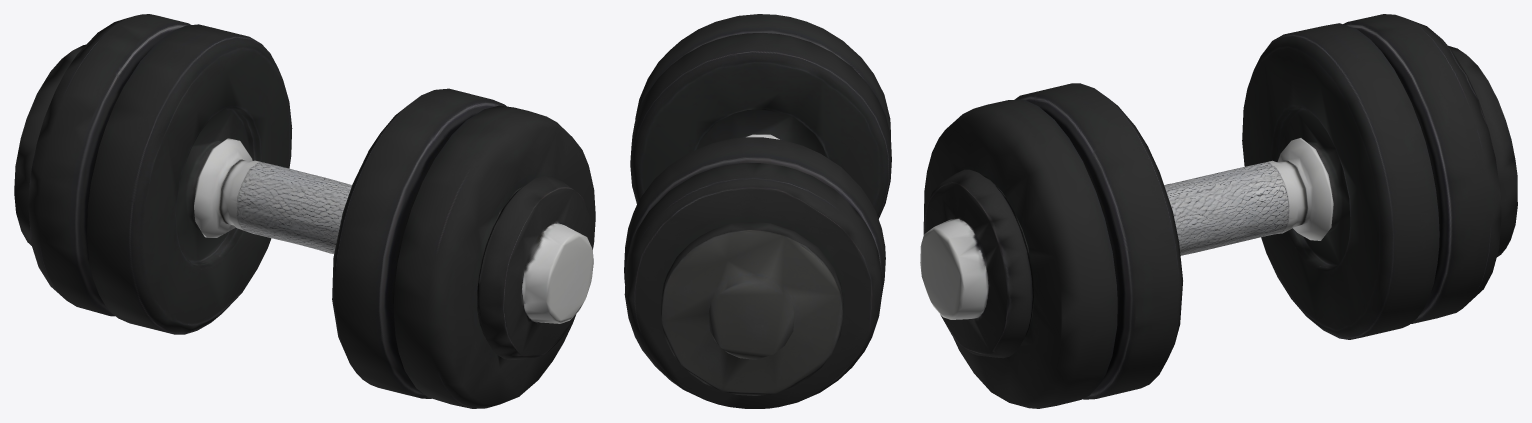
Rendered from dumbbell.glb.
The picture shows the model from 3 angles, left to right: view 1: azimuth 30°, elevation 25°; view 2: azimuth 150°, elevation 25°; view 3: azimuth 270°, elevation 25°; orthographic projection. The views are drawn at different scales.
Parts seen in each view (by area): view 1: tripo_node_0242265d-ac64-4ee6-805f-7662aba694ae; view 2: tripo_node_0242265d-ac64-4ee6-805f-7662aba694ae; view 3: tripo_node_0242265d-ac64-4ee6-805f-7662aba694ae.
Part boxes in pixels (left/top/right/bottom): tripo_node_0242265d-ac64-4ee6-805f-7662aba694ae: left=14, top=14, right=595, bottom=408; tripo_node_0242265d-ac64-4ee6-805f-7662aba694ae: left=624, top=14, right=891, bottom=408; tripo_node_0242265d-ac64-4ee6-805f-7662aba694ae: left=920, top=14, right=1517, bottom=408.
Size of the model in its own units: 0.7973 by 0.5058 by 0.964.
1 material, 1 textured.
